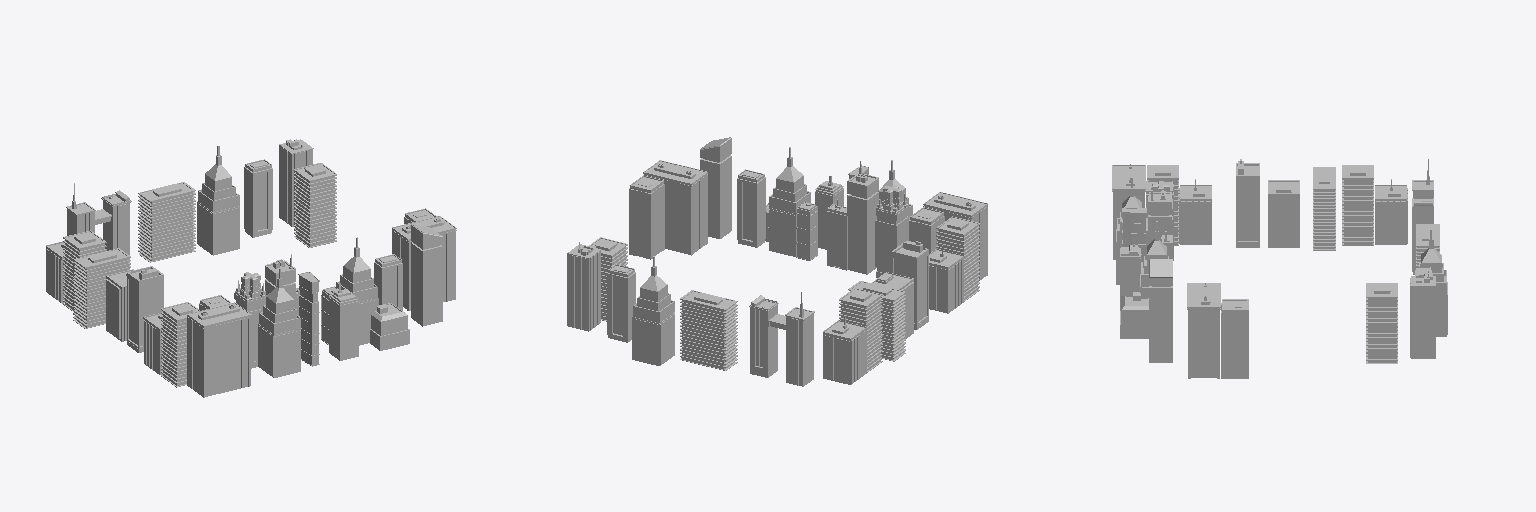
Rendered from city.obj.
3 views of the same model, side by side, from view 1: azimuth 30°, elevation 25°; view 2: azimuth 150°, elevation 25°; view 3: azimuth 270°, elevation 25° (orthographic).
Visible parts, largest first — view 1: Highrise_14.001, Highrise_12.001, Highrise_9.001, Highrise_9.002, Highrise_19.002, Highrise_16, Highrise_12, highrise_13, Highrise_14.002, Highrise_10, Highrise_4.001, Highrise_19.001 (+12 smaller); view 2: highrise_13, Highrise_12.001, Highrise_14.002, Highrise_9.002, Highrise_11, Highrise_7.002, Highrise_15, Highrise_9, Highrise_16, Highrise_6.001, Highrise_18, Highrise_4 (+13 smaller); view 3: Highrise_14.002, Highrise_19.003, Highrise_19.002, Highrise_16, Highrise_7.002, Highrise_2, Highrise_15, Highrise_10, Highrise_6.001, Highrise_6, Highrise_12, Highrise_14.001 (+10 smaller).
Boxes of the visible parts, <box> form: Highrise_14.001: <box>187,302,251,397</box>; Highrise_12.001: <box>138,182,195,262</box>; Highrise_9.001: <box>258,268,300,377</box>; Highrise_9.002: <box>197,146,239,255</box>; Highrise_19.002: <box>294,163,336,247</box>; Highrise_16: <box>411,224,442,326</box>; Highrise_12: <box>73,248,130,328</box>; highrise_13: <box>66,183,131,268</box>; Highrise_14.002: <box>392,216,456,310</box>; Highrise_10: <box>127,266,163,352</box>; Highrise_4.001: <box>244,159,272,237</box>; Highrise_19.001: <box>161,302,199,387</box>; highrise_13: <box>749,292,814,386</box>; Highrise_12.001: <box>680,290,737,370</box>; Highrise_14.002: <box>643,160,707,255</box>; Highrise_9.002: <box>632,256,674,365</box>; Highrise_11: <box>847,161,878,274</box>; Highrise_7.002: <box>629,175,664,259</box>; Highrise_15: <box>567,242,601,331</box>; Highrise_9: <box>769,147,810,256</box>; Highrise_16: <box>700,137,731,238</box>; Highrise_6.001: <box>823,317,866,384</box>; Highrise_18: <box>875,185,908,277</box>; Highrise_4: <box>737,169,765,247</box>; Highrise_14.002: <box>1187,283,1220,378</box>; Highrise_19.003: <box>1342,165,1373,245</box>; Highrise_19.002: <box>1366,283,1397,363</box>; Highrise_16: <box>1149,259,1172,362</box>; Highrise_7.002: <box>1221,299,1248,378</box>; Highrise_2: <box>1268,180,1299,247</box>; Highrise_15: <box>1410,271,1435,358</box>; Highrise_10: <box>1236,159,1259,247</box>; Highrise_6.001: <box>1375,179,1407,244</box>; Highrise_6: <box>1179,179,1211,244</box>; Highrise_12: <box>1313,167,1335,250</box>; Highrise_14.001: <box>1112,164,1145,259</box>.
Bounding box in the file's own units: 453 × 155 × 425.